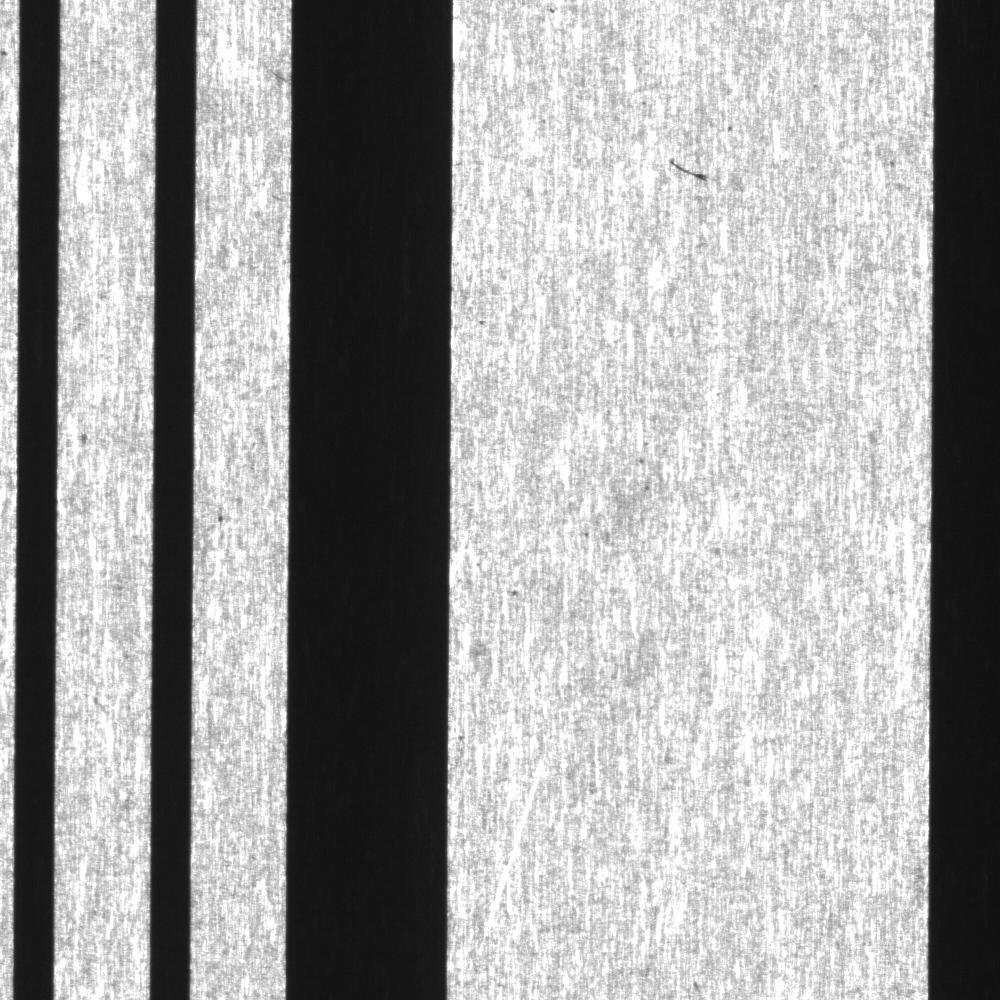Etching: (70, 418, 98, 455)
Pinhole: (627, 435, 657, 504), (209, 502, 240, 532), (577, 519, 603, 553), (505, 581, 533, 602), (722, 115, 742, 137), (473, 310, 492, 333)
Scar: (249, 44, 290, 88), (662, 156, 719, 185)
